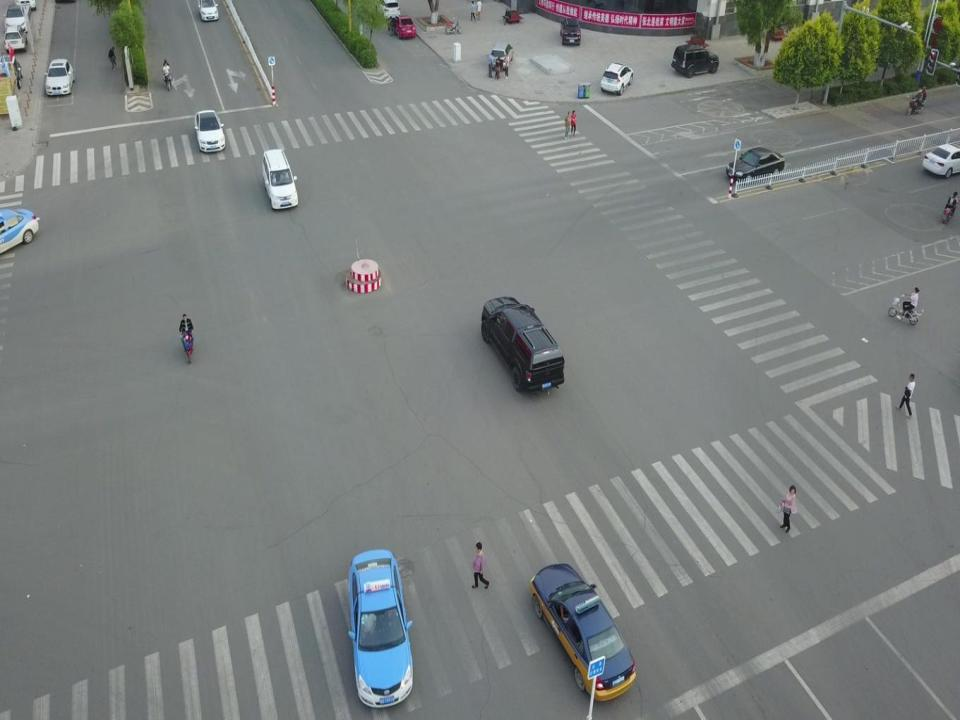car: (531, 564, 635, 700), (347, 548, 412, 708), (726, 147, 785, 184), (0, 209, 38, 264), (194, 109, 225, 152), (922, 144, 960, 179), (44, 58, 75, 95), (0, 55, 23, 95), (4, 5, 28, 35), (387, 15, 416, 39), (198, 0, 218, 22)
van: (481, 298, 564, 393), (262, 149, 298, 209), (672, 44, 720, 78), (600, 62, 633, 95), (3, 25, 27, 53), (490, 42, 513, 70), (374, 0, 400, 23), (560, 18, 581, 46)
